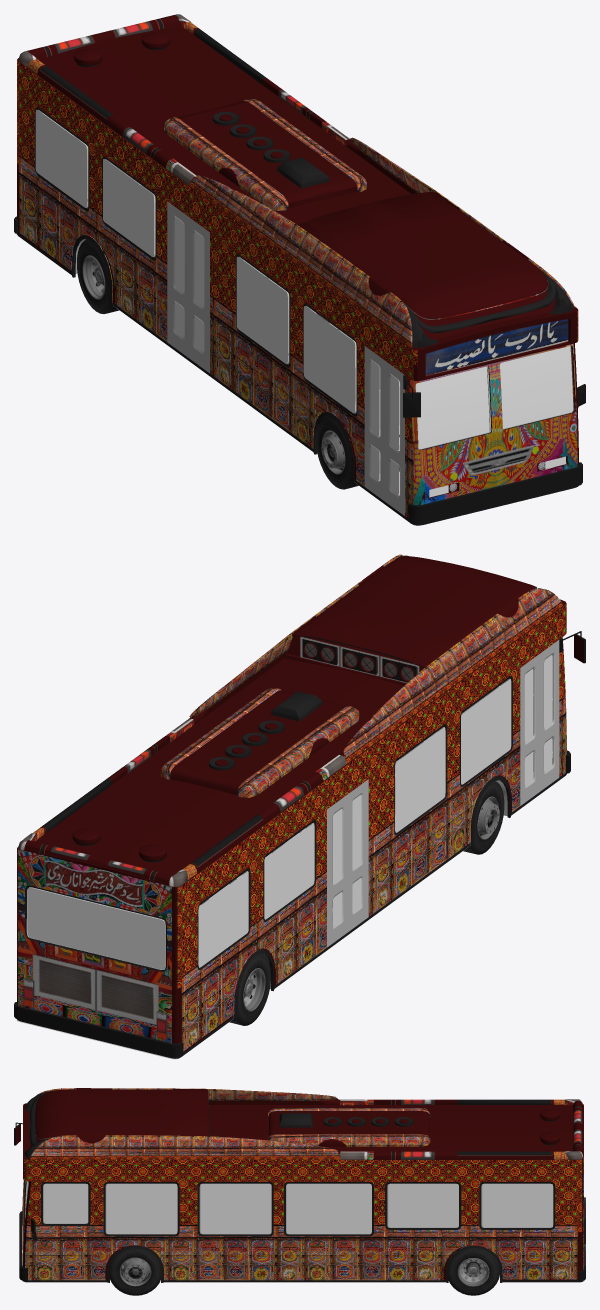
The model's file is lauri truck.fbx.
3 renders of one model, top to bottom at view 1: azimuth 30°, elevation 25°; view 2: azimuth 150°, elevation 25°; view 3: azimuth 270°, elevation 25°, orthographic. The views are drawn at different scales.
Visible parts, largest first — view 1: Main_body, Glass, door glass (×3), door3, door4, door001, Doorglass, wheel_1, wheel_4, Interior, dooe glass; view 2: Main_body, Glass, door glass (×3), door4, door3, door001, Doorglass, wheel_4, wheel_1, Interior, dooe glass; view 3: Main_body, Glass, wheel 3, wheel, Interior.
Part boxes in pixels (x1,y1,x2,y2): Main_body: [14, 14, 585, 525]; Glass: [35, 109, 573, 497]; door glass (×3): [174, 217, 398, 494]; door3: [167, 201, 188, 357]; door4: [188, 217, 209, 373]; door001: [364, 346, 384, 500]; Doorglass: [384, 360, 404, 515]; wheel_1: [316, 416, 358, 489]; wheel_4: [77, 239, 119, 313]; Interior: [16, 110, 573, 522]; dooe glass: [370, 361, 379, 480]; Main_body: [14, 554, 585, 1058]; Glass: [27, 654, 552, 969]; door glass (×3): [333, 655, 552, 926]; door4: [348, 779, 368, 931]; door3: [327, 794, 347, 947]; door001: [520, 654, 539, 805]; Doorglass: [540, 640, 559, 791]; wheel_4: [229, 953, 270, 1025]; wheel_1: [463, 781, 504, 854]; Interior: [16, 679, 563, 1059]; dooe glass: [524, 669, 533, 785]; Main_body: [14, 1088, 585, 1282]; Glass: [26, 1181, 553, 1233]; wheel 3: [448, 1248, 499, 1295]; wheel: [110, 1248, 161, 1295]; Interior: [25, 1181, 584, 1281].
Size of the model in its own units: 109 by 122 by 397.
